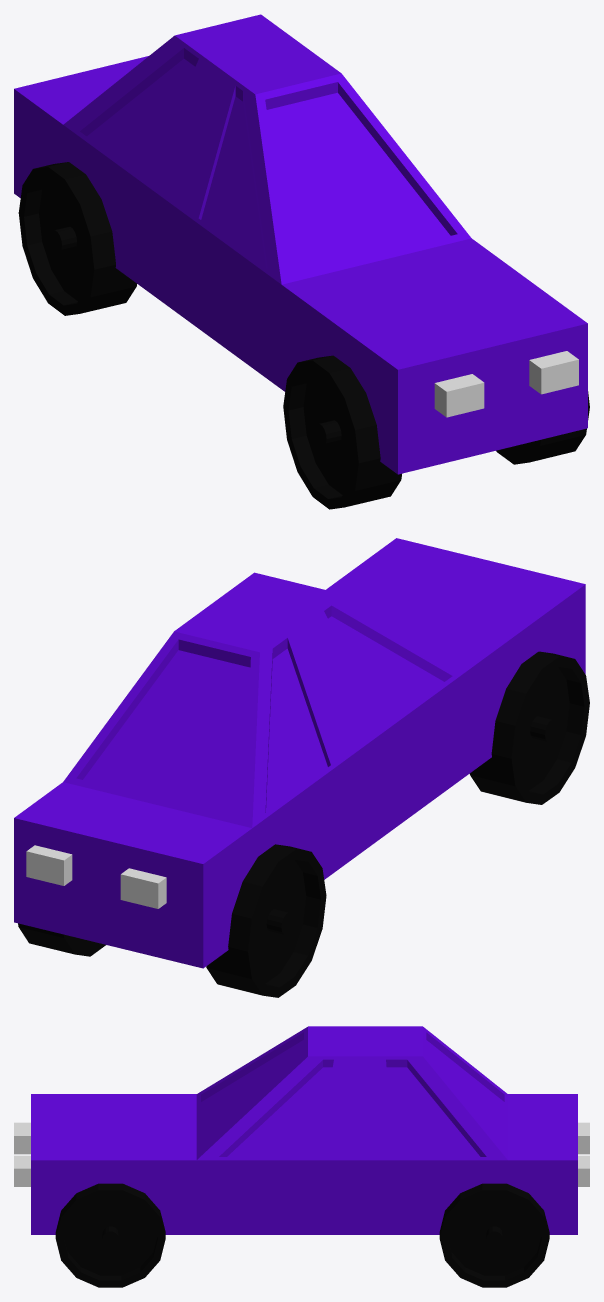
File: car.gltf
The picture shows the model from 3 angles, top to bottom: view 1: azimuth 30°, elevation 25°; view 2: azimuth 150°, elevation 25°; view 3: azimuth 270°, elevation 25°; orthographic projection. The views are drawn at different scales.
Visible parts, largest first — view 1: Cube, Cylinder.002, Cylinder.003, Cube.001, Cube.002, Cylinder; view 2: Cube, Cylinder.003, Cylinder.002, Cube.003, Cube.004, Cylinder.001; view 3: Cube, Cylinder.001, Cylinder, Cube.001, Cube.002, Cube.003, Cube.004.
Boxes of the visible parts, x1,y1,x2,y2 form: Cube: (14,14,587,474); Cylinder.002: (283,355,401,509); Cylinder.003: (18,162,136,315); Cube.001: (434,374,484,417); Cube.002: (529,351,578,394); Cylinder: (496,391,589,464); Cube: (14,538,585,968); Cylinder.003: (206,844,326,997); Cylinder.002: (469,651,589,804); Cube.003: (120,868,166,908); Cube.004: (26,845,72,885); Cylinder.001: (18,923,105,956); Cube: (31,1026,577,1234); Cylinder.001: (439,1183,549,1287); Cylinder: (55,1183,165,1287); Cube.001: (14,1122,30,1154); Cube.002: (14,1155,30,1186); Cube.003: (578,1122,589,1154); Cube.004: (578,1155,589,1186).
Size of the model in its own units: 2.43 by 2.91 by 7.37.
